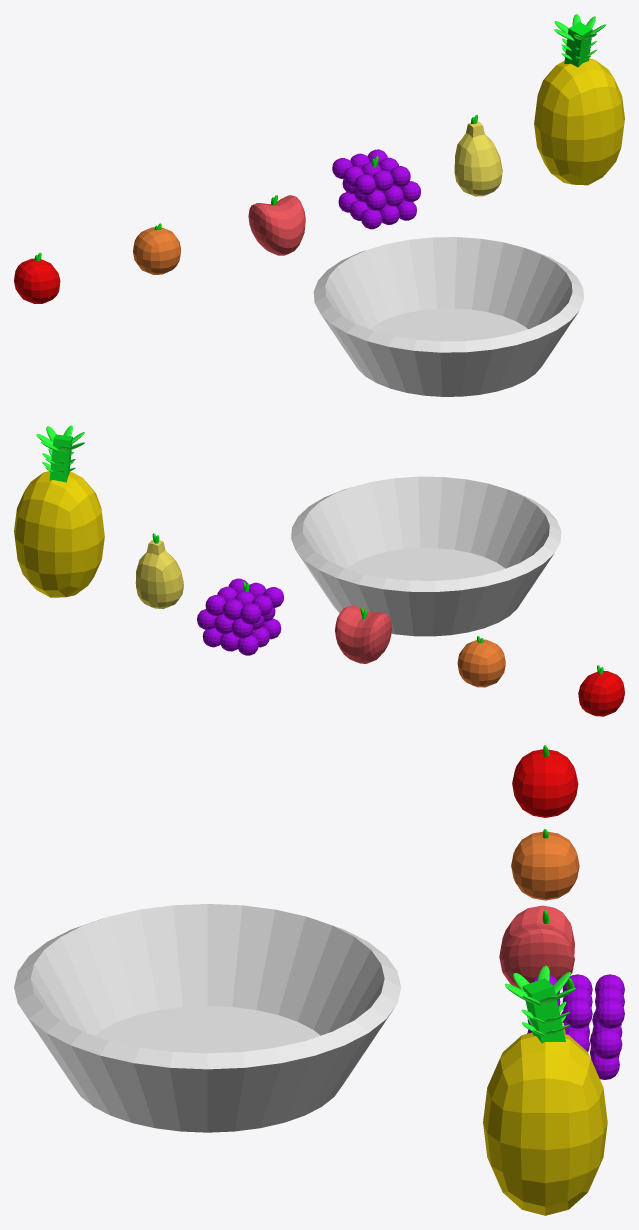
The model's file is fruits.fbx.
3 views of the same model, one above another, from view 1: azimuth 30°, elevation 25°; view 2: azimuth 150°, elevation 25°; view 3: azimuth 270°, elevation 25° (orthographic). The views are drawn at different scales.
Visible parts, largest first — view 1: plate, pineapple, grape, pear, peach, orange, apple; view 2: plate, pineapple, grape, peach, pear, orange, apple; view 3: plate, pineapple, grape, peach, orange, apple.
Boxes of the visible parts, box(x1,y1,x2,y2) form: plate: box(313, 237, 583, 396); pineapple: box(534, 14, 624, 185); grape: box(332, 149, 420, 229); pear: box(454, 115, 502, 196); peach: box(248, 195, 305, 255); orange: box(133, 223, 180, 274); apple: box(14, 252, 60, 303); plate: box(291, 476, 561, 636); pineapple: box(14, 425, 104, 597); grape: box(197, 578, 283, 655); peach: box(335, 605, 391, 663); pear: box(135, 533, 183, 608); orange: box(457, 636, 505, 687); apple: box(578, 665, 624, 716); plate: box(14, 904, 401, 1132); pineapple: box(483, 965, 607, 1215); grape: box(527, 974, 624, 1079); peach: box(499, 905, 574, 988); orange: box(511, 829, 579, 900); apple: box(512, 745, 578, 817).
Size of the model in its own units: 2432 by 716 by 1496.
